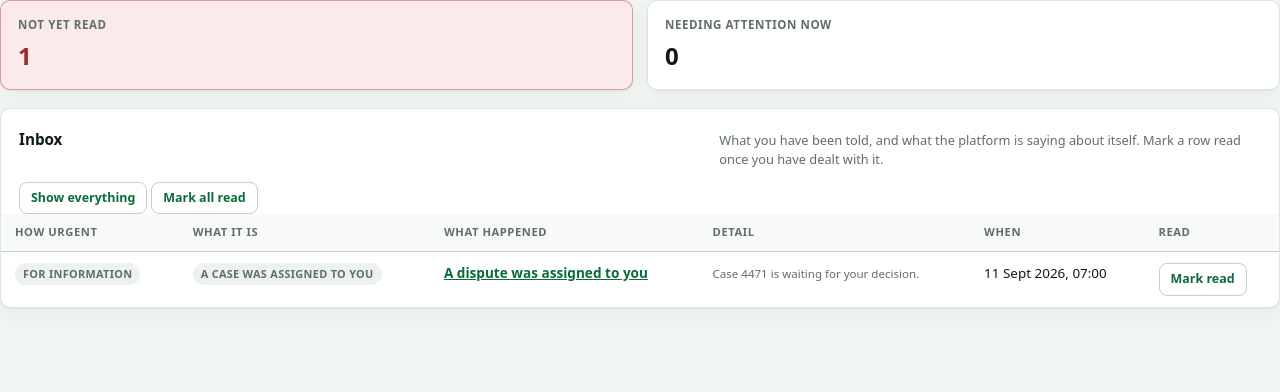
it: the states this must not have broken › still reports a refused mark-read without losing the list
Expected: the button "A dispute was assigned to you" is shown, x1=444 y1=263 x2=648 y2=284
Click the button "Mark read" at (1203, 280), box x1=1158 y1=263 x2=1247 y2=296
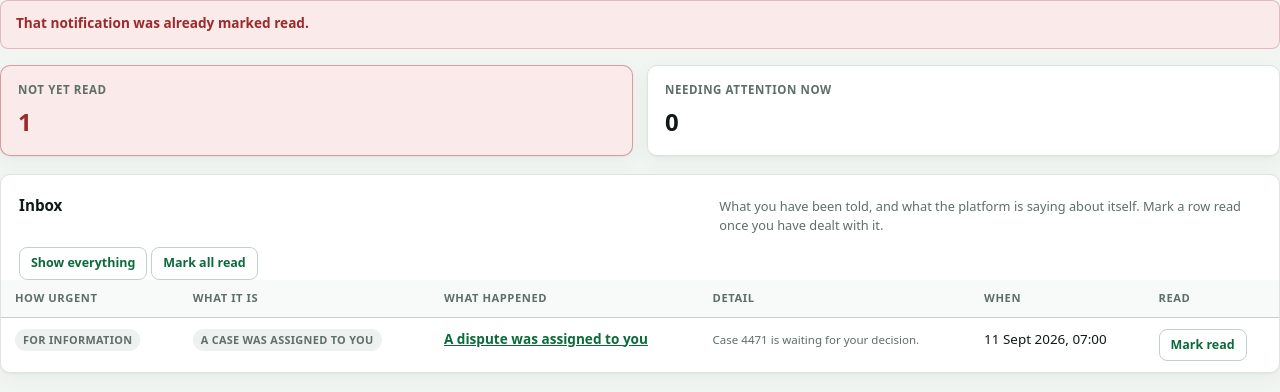
Expected: the button "A dispute was assigned to you" is shown, x1=444 y1=328 x2=648 y2=349
Expected: the text "That notification was already marked read." is shown, x1=16 y1=13 x2=309 y2=32
